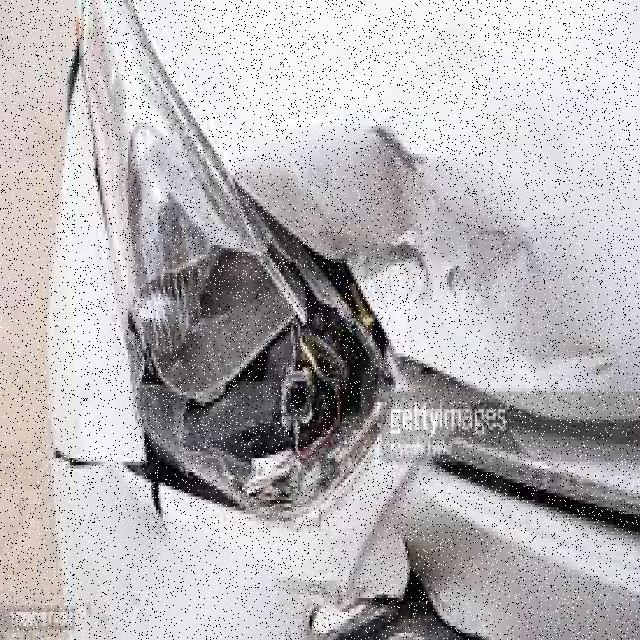Headlight-Damage: (49, 112, 412, 532)
bonnet-dent: (291, 0, 638, 532)
